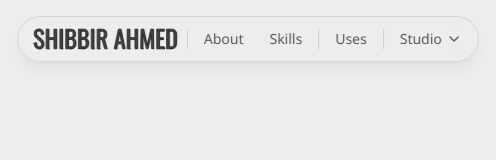
Test: DesktopNav › opens the Studio menu on hover and closes it on leave
Hover over the list item "Studio" at (429,39), box [388, 23, 470, 55]
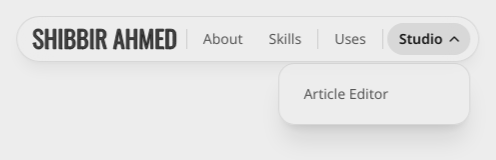
Expected: the button "Studio" is expanded
Move the pointer off the list item "Studio", box [387, 23, 471, 55]
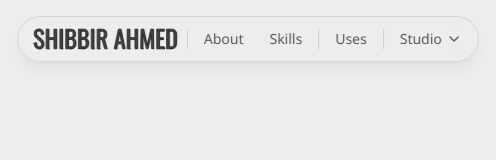
Expected: the button "Studio" is collapsed, [388, 23, 470, 55]
